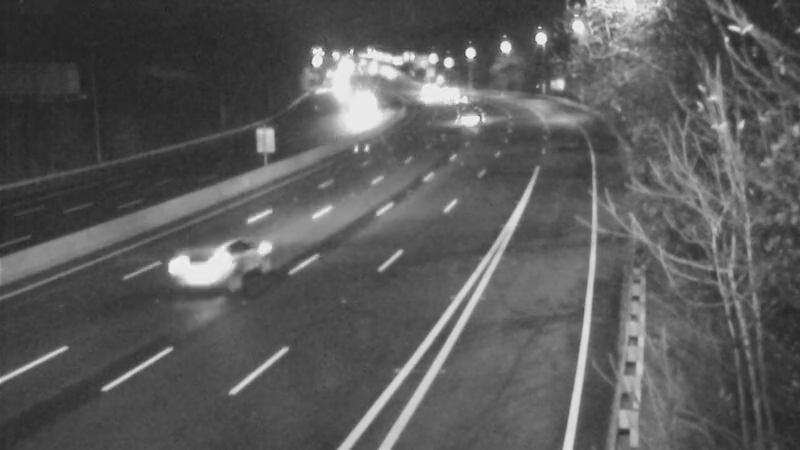vehicle: (174, 229, 254, 309), (403, 71, 453, 121), (422, 68, 472, 118), (434, 74, 484, 124), (449, 90, 499, 140), (332, 83, 382, 133)
